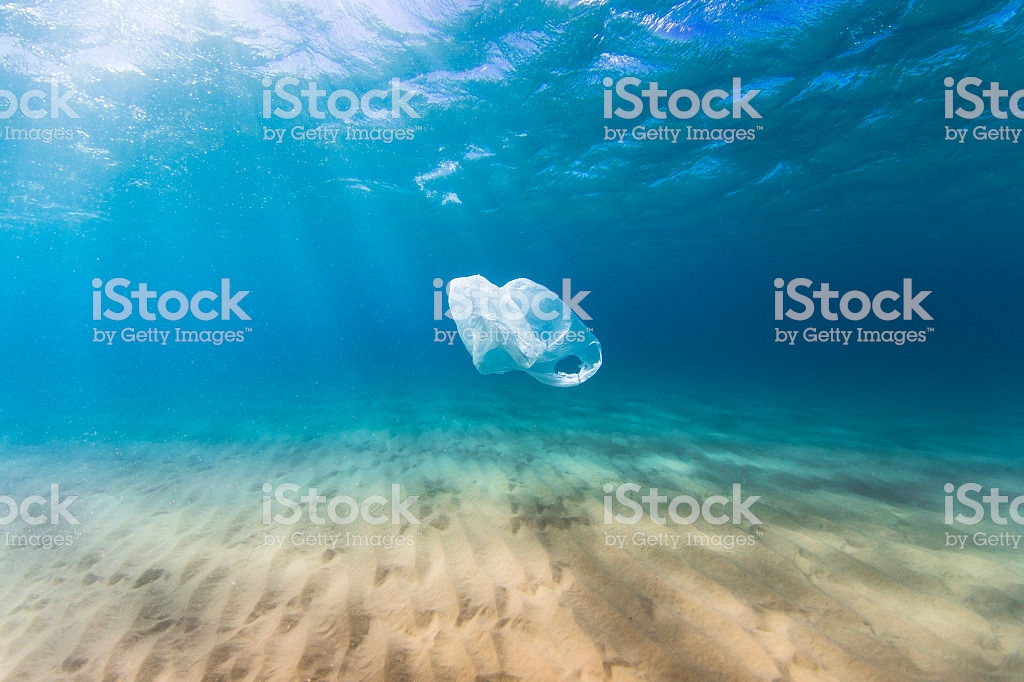litter: (412, 264, 606, 394)
